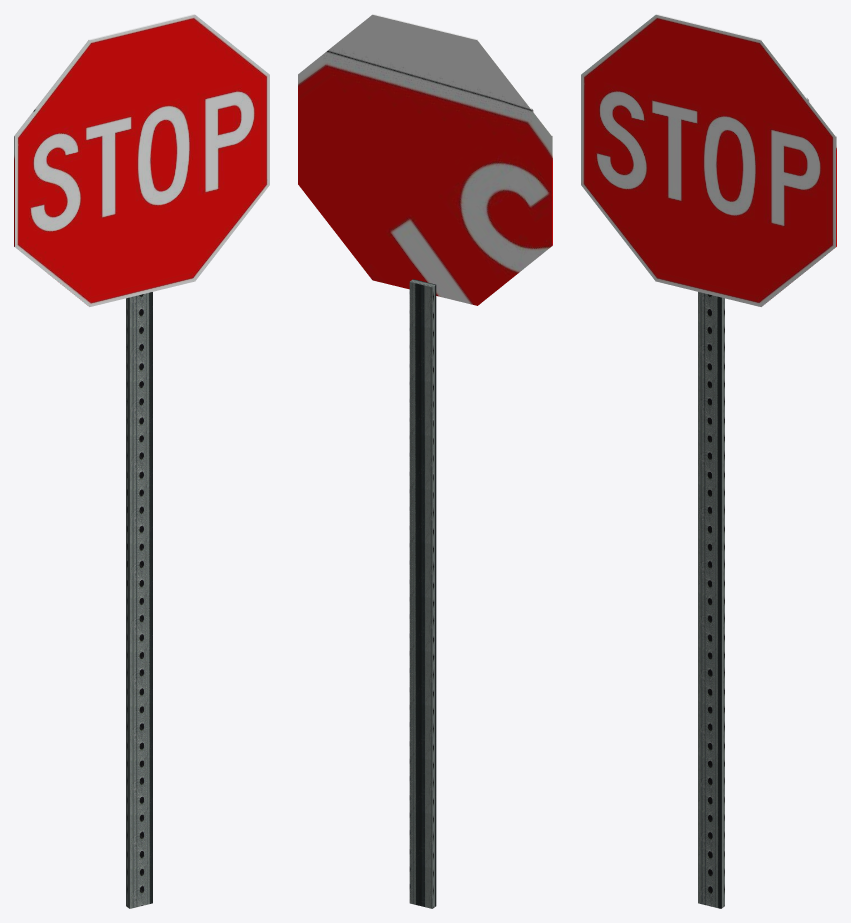
The model's file is stop_sign_1.glb.
3 views of the same model, side by side, from view 1: azimuth 30°, elevation 25°; view 2: azimuth 150°, elevation 25°; view 3: azimuth 330°, elevation 25° (orthographic).
Visible parts, largest first — view 1: Cube; view 2: Cube; view 3: Cube.
Boxes of the visible parts, <box> form: Cube: <box>14,14,269,908</box>; Cube: <box>298,14,552,908</box>; Cube: <box>581,14,836,908</box>.
Bounding box in the file's own units: 0.8801 × 2.9 × 0.0298.
Materials: 2 (2 with a texture image).
